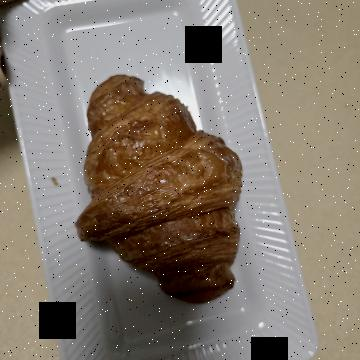croissant: (61, 113, 312, 305)
